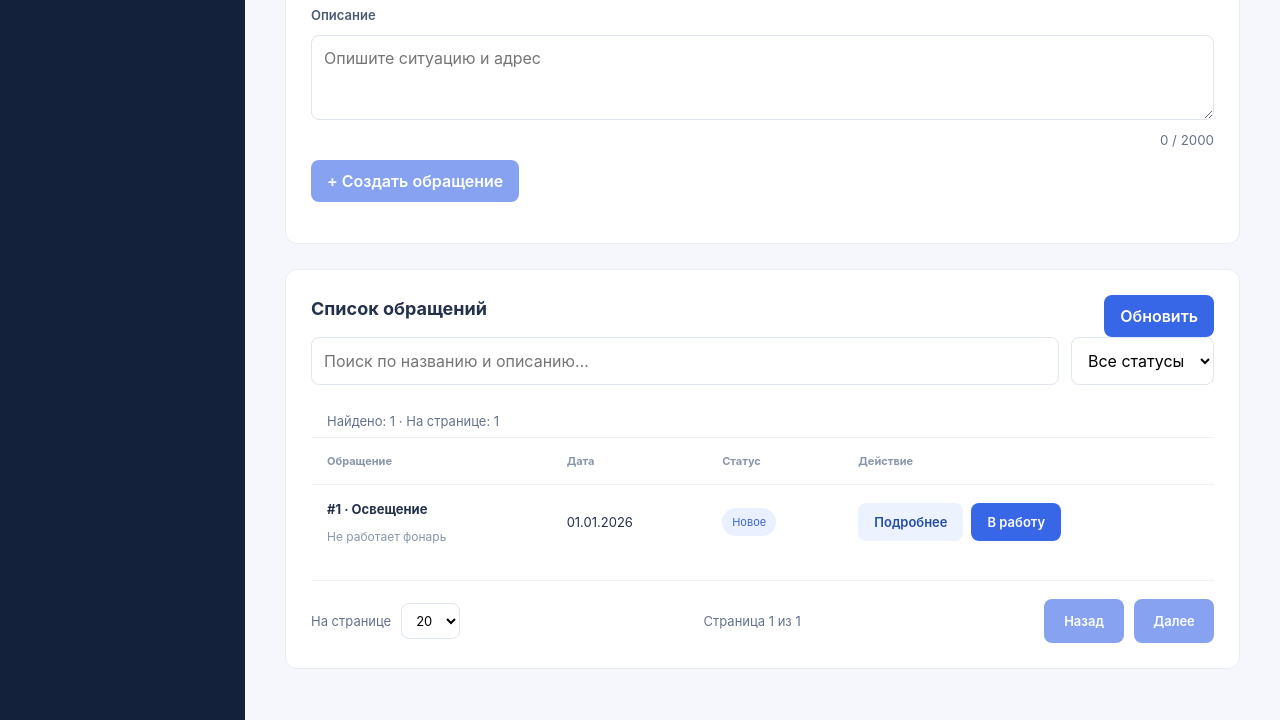
it: reloads the filtered page and global counters after a status change
(page scrolled)
expect the text "Страница 1 из 1" is shown: met, box [704,613,801,629]
Select "Новое" in the dropdown named "Статус обращения" at (1142, 361), box [1071,337,1214,385]
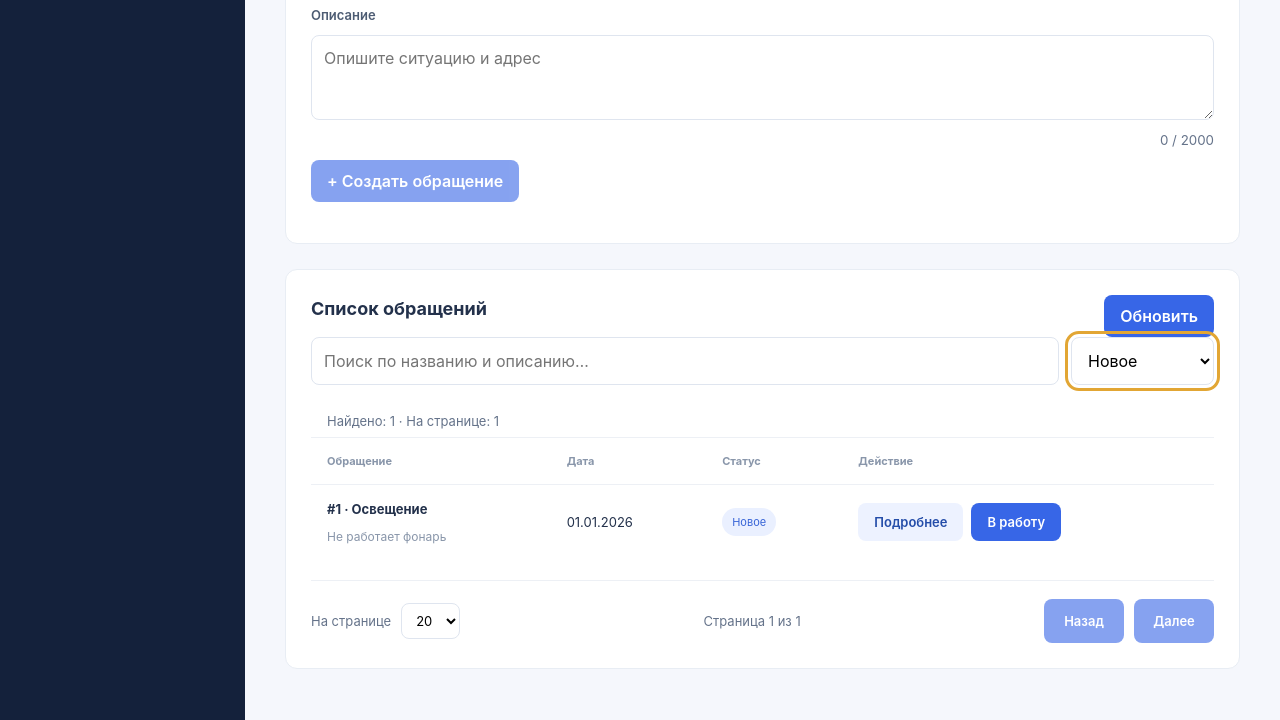
Click the button with aria-label "Взять в работу: Освещение" at (1016, 522), box [972,503,1061,541]
(page scrolled)
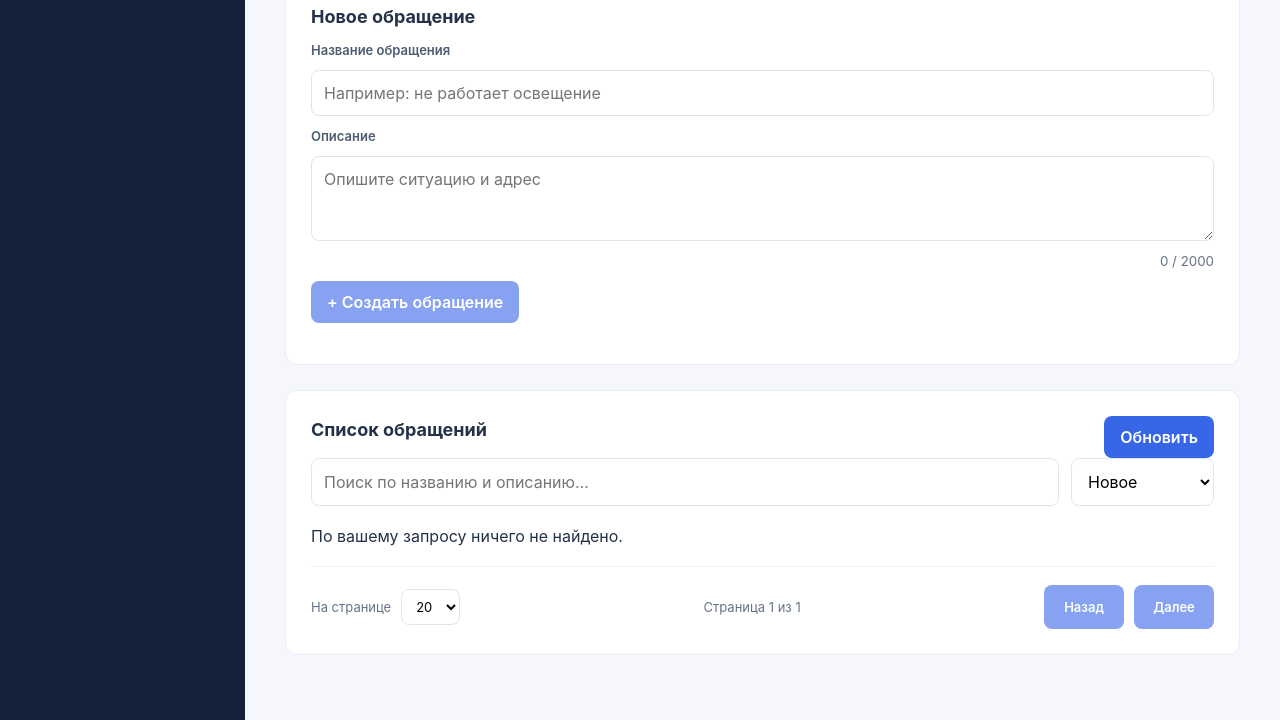
expect the text "По вашему запросу ничего не найдено." is shown: met, box [311,526,623,546]
